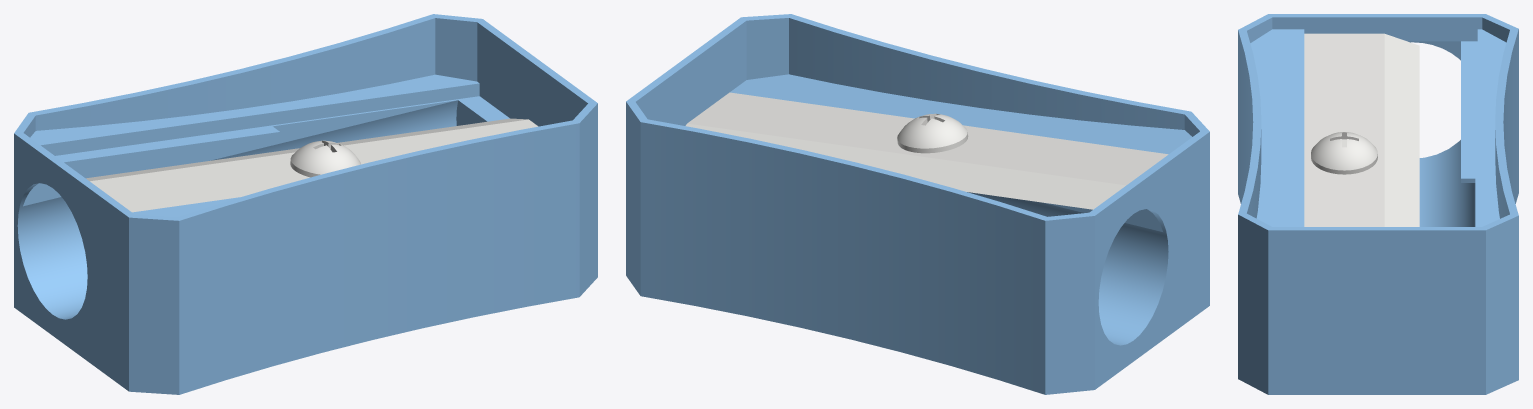
File: 185_鉛筆削り.glb
The picture shows the model from 3 angles, left to right: view 1: azimuth 30°, elevation 25°; view 2: azimuth 150°, elevation 25°; view 3: azimuth 270°, elevation 25°; orthographic projection. The views are drawn at different scales.
Parts seen in each view (by area): view 1: body; view 2: body; view 3: body.
Boxes of the visible parts, box(x1,y1,x2,y2) form: body: box(14, 14, 597, 394); body: box(626, 14, 1209, 394); body: box(1238, 14, 1518, 394).
Bounding box in the file's own units: 0.031 × 0.011 × 0.017.
